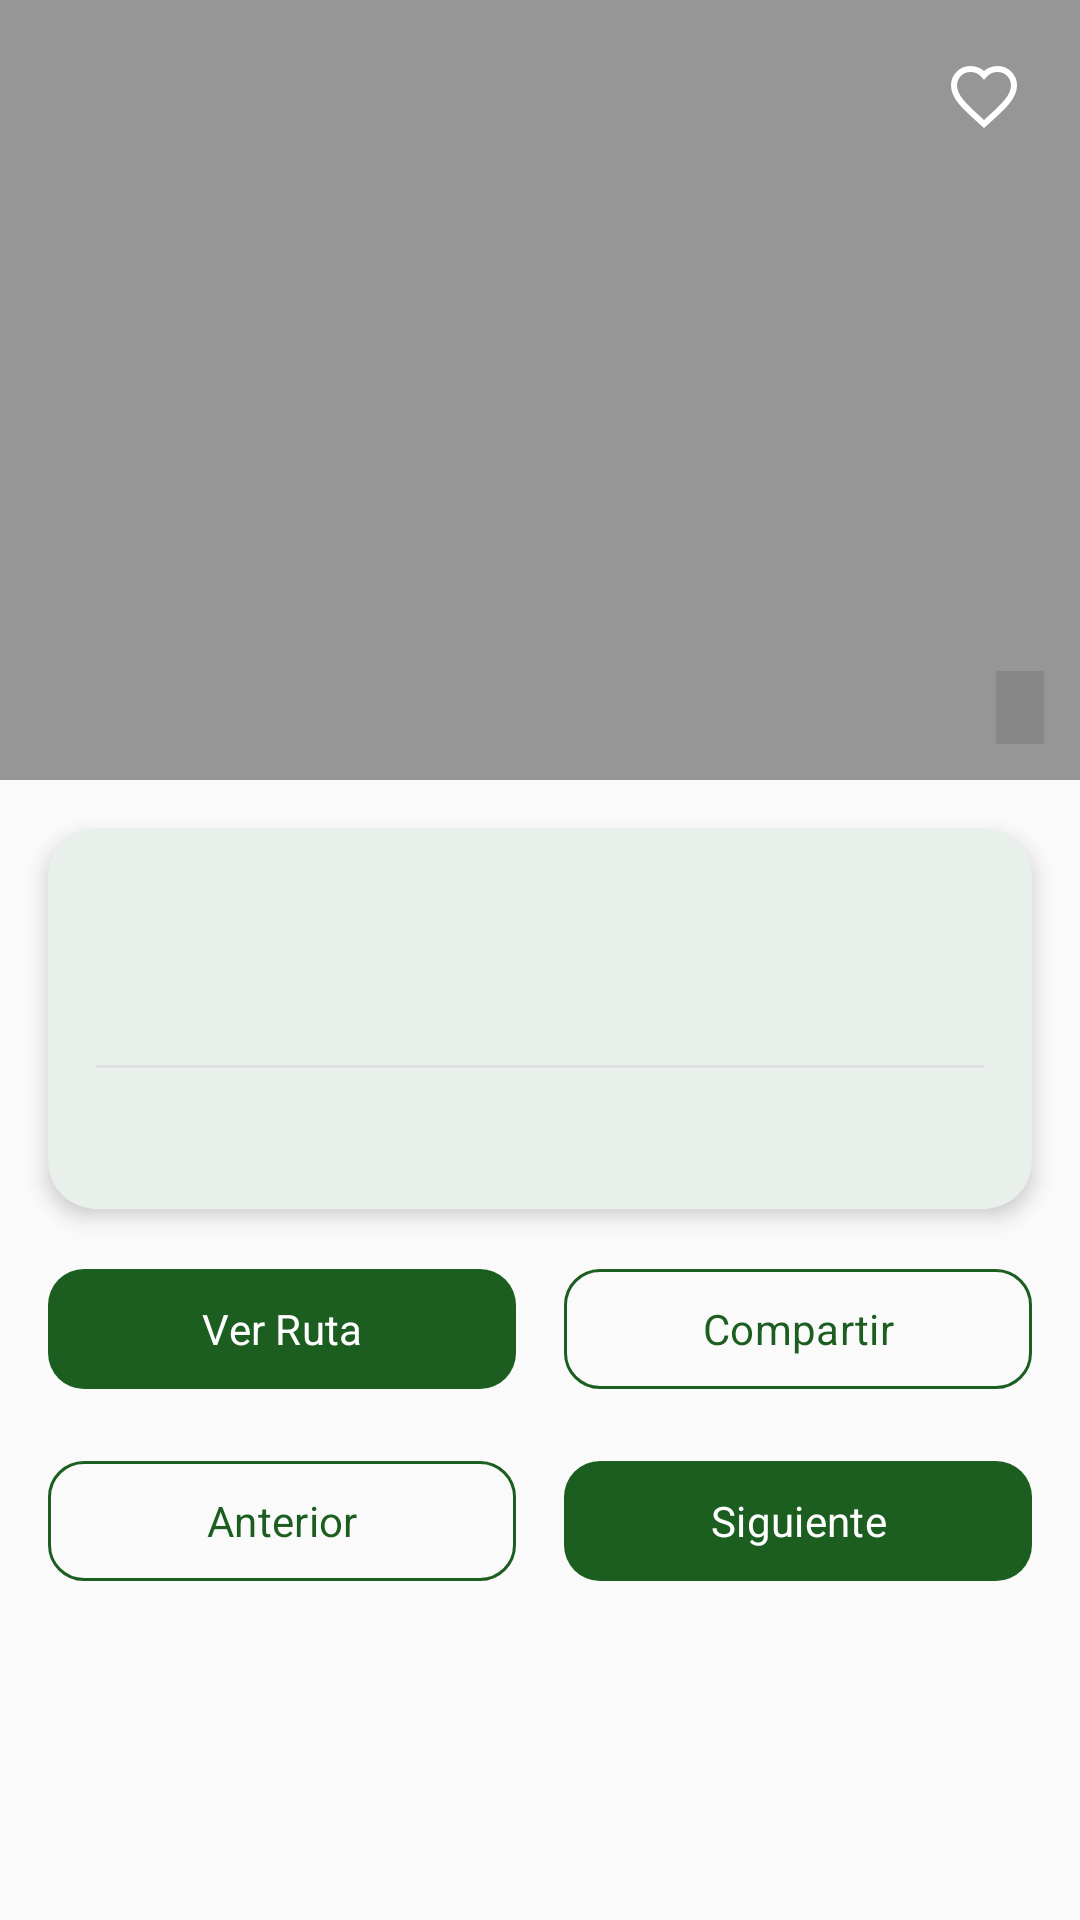

Where icons sit on this 1080w x 1920h app screen, as [x1,y1,x2,y2]:
Botón favorito: [951,66,1017,128]
